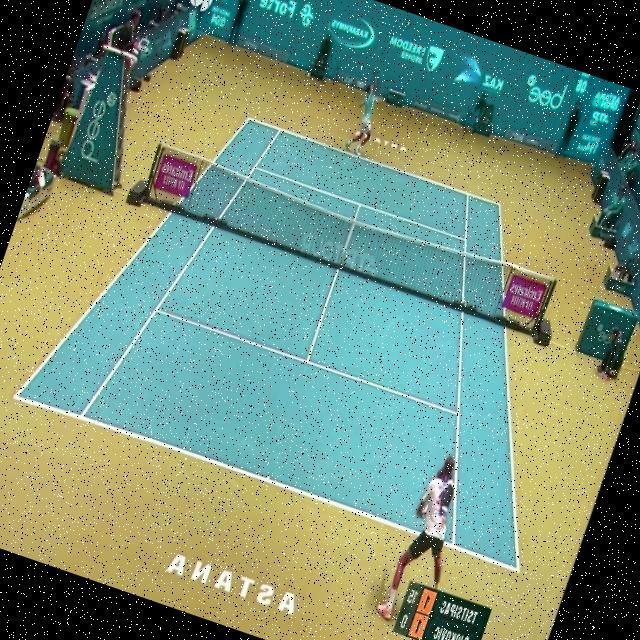court: (10, 72, 632, 575)
net: (138, 140, 556, 340)
player: (372, 450, 481, 634)
